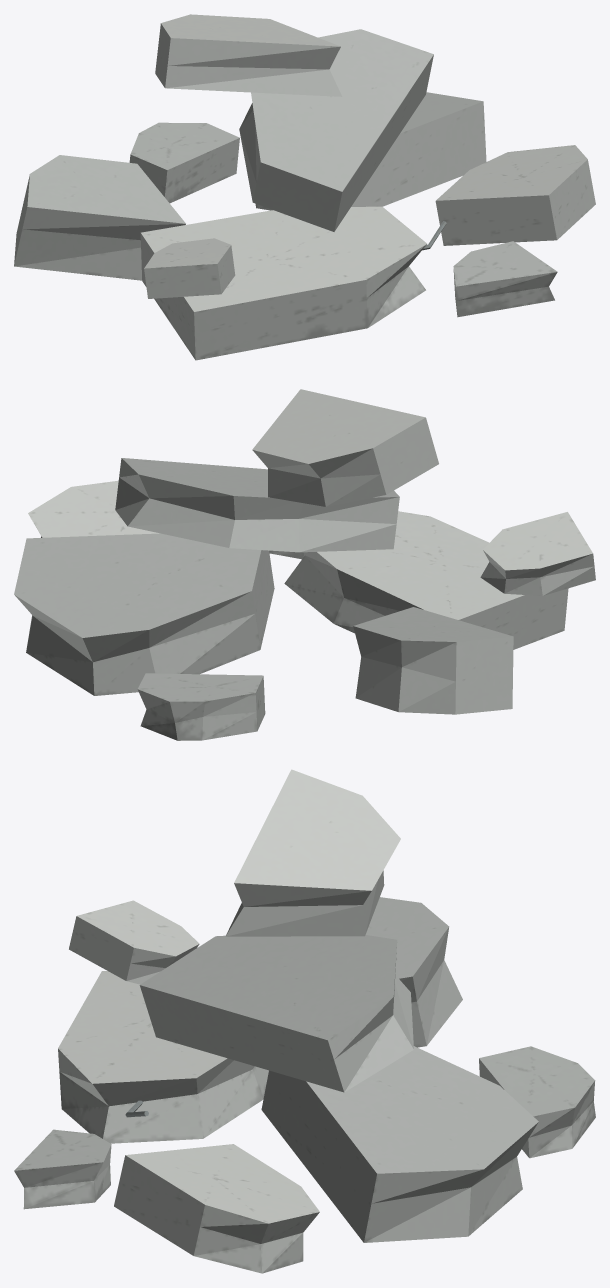
File: concrete_rubble_small.glb
3 views of the same model, one above another, from view 1: azimuth 30°, elevation 25°; view 2: azimuth 150°, elevation 25°; view 3: azimuth 270°, elevation 25° (orthographic). The views are drawn at different scales.
Parts seen in each view (by area): view 1: ConcreteRubbleSmall; view 2: ConcreteRubbleSmall; view 3: ConcreteRubbleSmall.
Boxes of the visible parts, x1,y1,x2,y2 form: ConcreteRubbleSmall: (14,14,595,360); ConcreteRubbleSmall: (14,389,595,740); ConcreteRubbleSmall: (14,769,595,1273).
Size of what is drawn, in the model's own units: 1.49 by 0.6951 by 1.25.
1 material, 1 textured.
